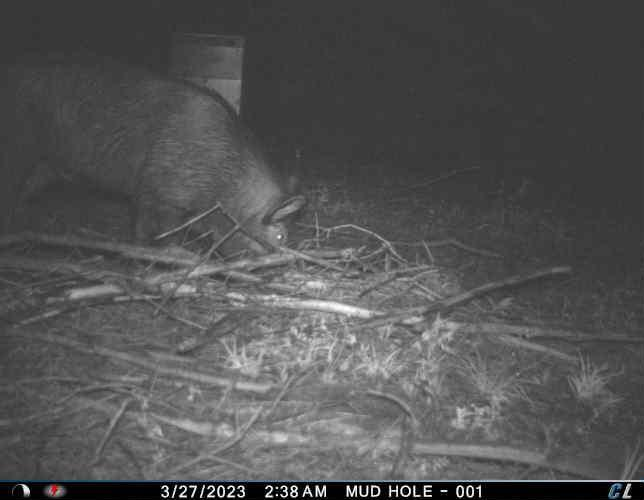Hog: (0, 37, 309, 266)
